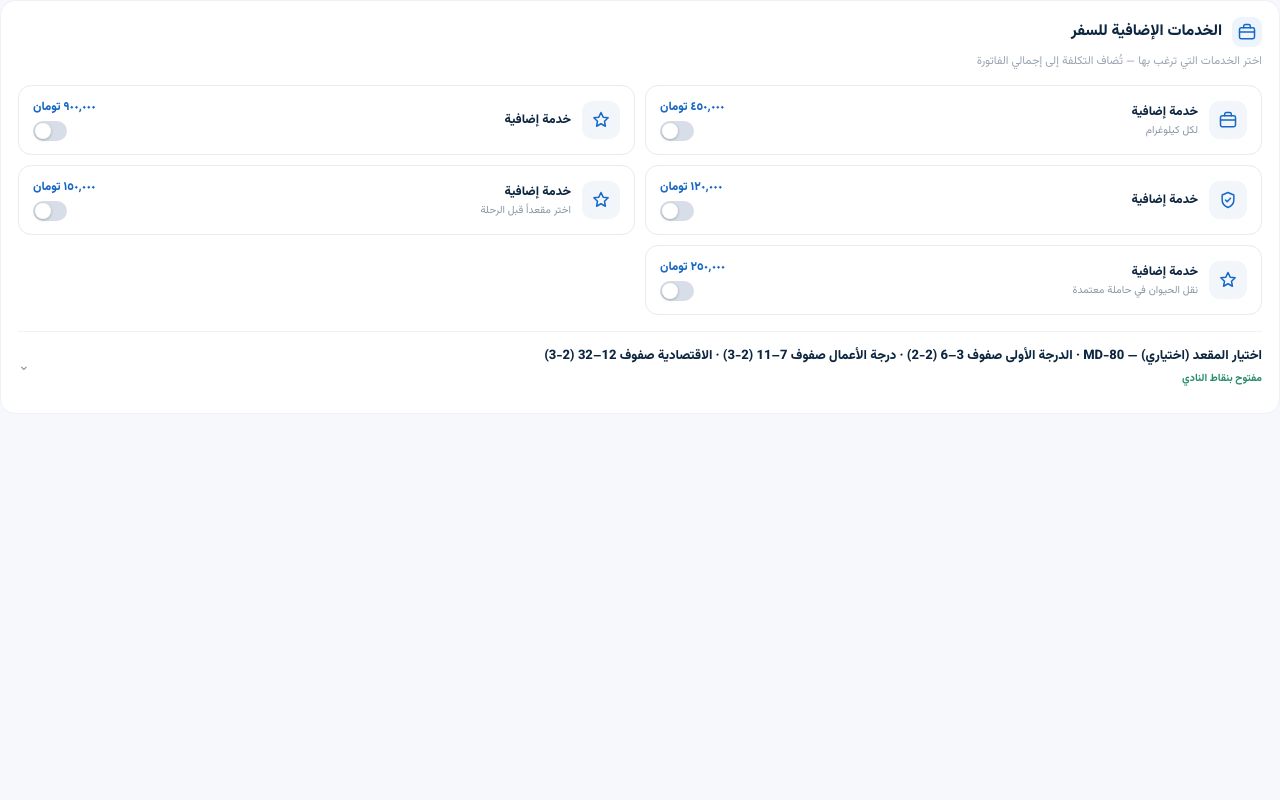
Test: ExtrasStep — design parity › localizes Arabic map labels while keeping GALLEY in English
This screenshot has width=1280, height=800.
Step 1. Click the button with test id "checkout-seat-toggle" → point(640, 367), box [18,347,1262,387]
(page scrolled)
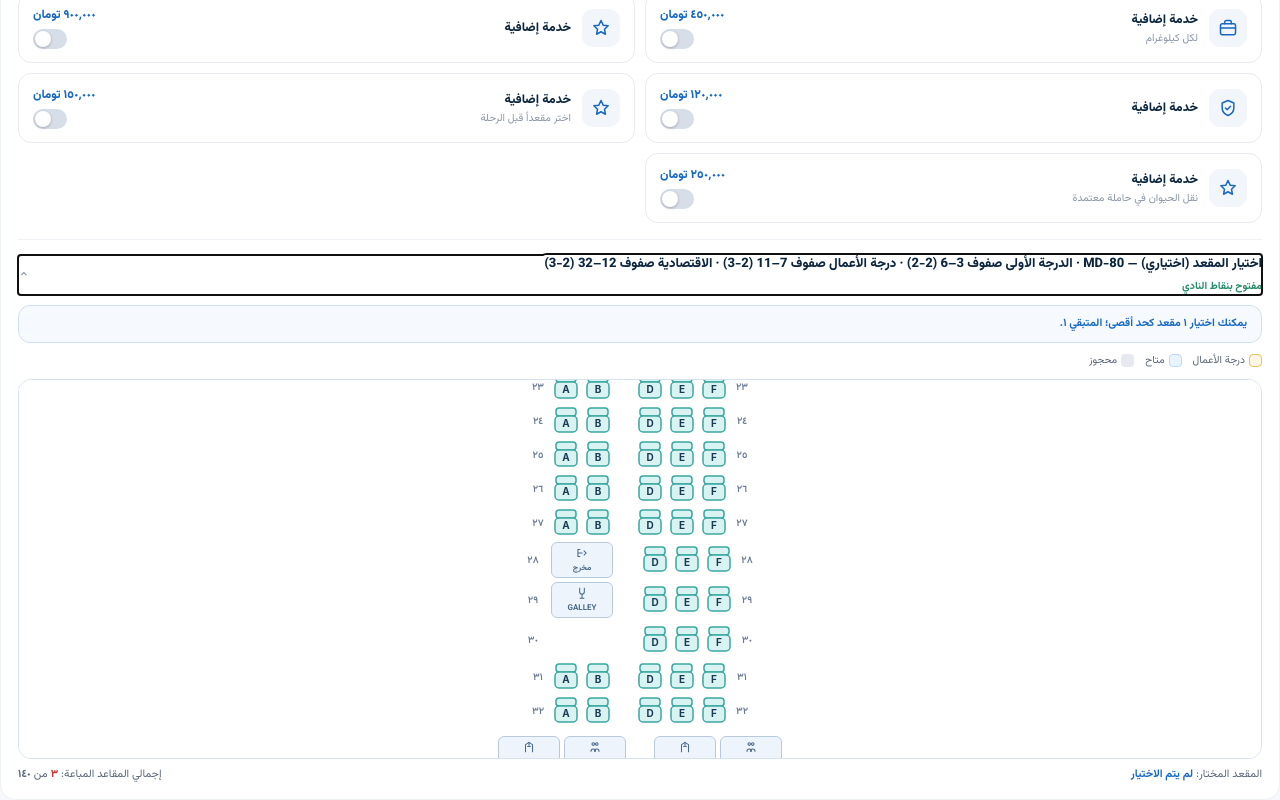
Now the text "مخرج" is shown, box [573,562,591,574]
